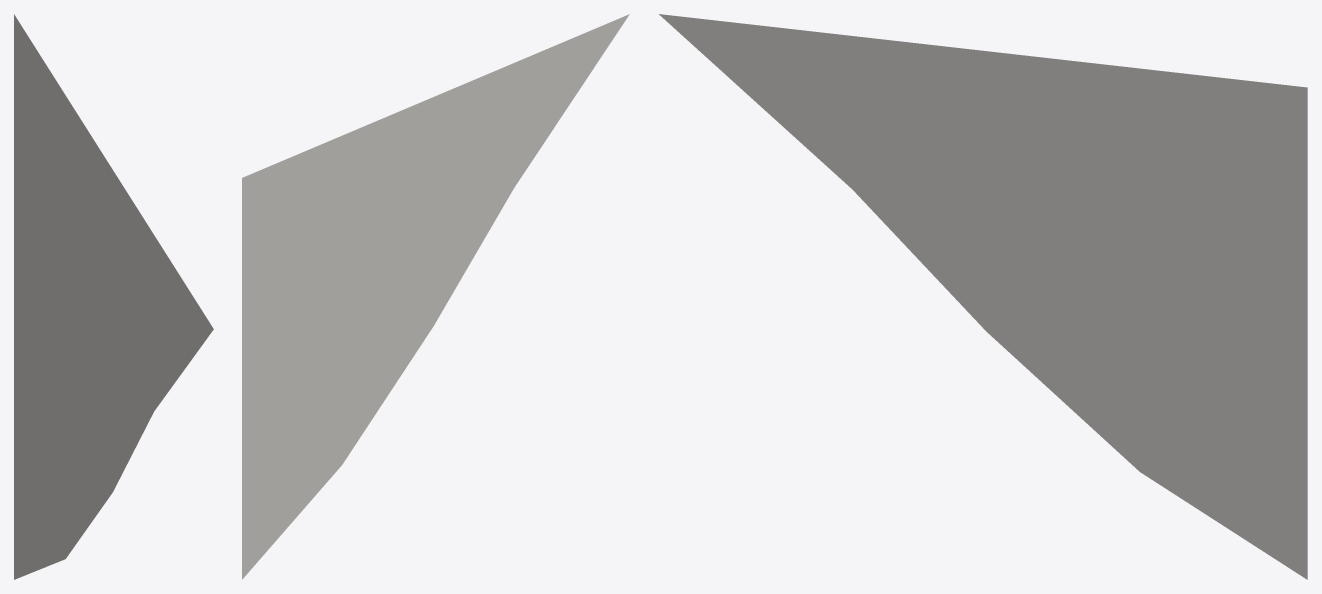
The model's file is kd_stage_135ded_4_78_exterior_piece_8.glb.
The picture shows the model from 3 angles, left to right: view 1: azimuth 30°, elevation 25°; view 2: azimuth 150°, elevation 25°; view 3: azimuth 270°, elevation 25°; orthographic projection. The views are drawn at different scales.
Visible parts, largest first — view 1: kd_stage_135ded_4_78_exterior_piece_8; view 2: kd_stage_135ded_4_78_exterior_piece_8; view 3: kd_stage_135ded_4_78_exterior_piece_8.
Part boxes in pixels (left/top/right/bottom): kd_stage_135ded_4_78_exterior_piece_8: left=14, top=14, right=213, bottom=579; kd_stage_135ded_4_78_exterior_piece_8: left=242, top=14, right=629, bottom=579; kd_stage_135ded_4_78_exterior_piece_8: left=659, top=14, right=1307, bottom=579.
Bounding box in the file's own units: 0.1753 × 0.5476 × 0.6541.
Materials: 1 (1 with a texture image).
